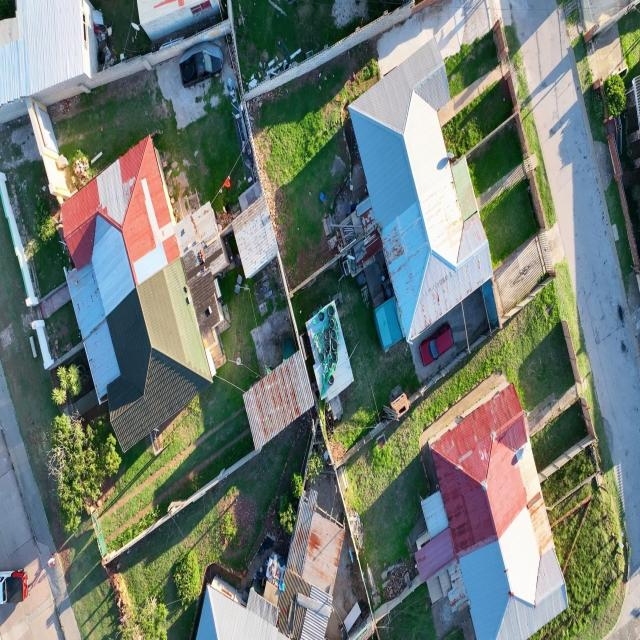Car: (417, 327, 455, 367)
Truck: (179, 39, 225, 89), (0, 568, 30, 604)
